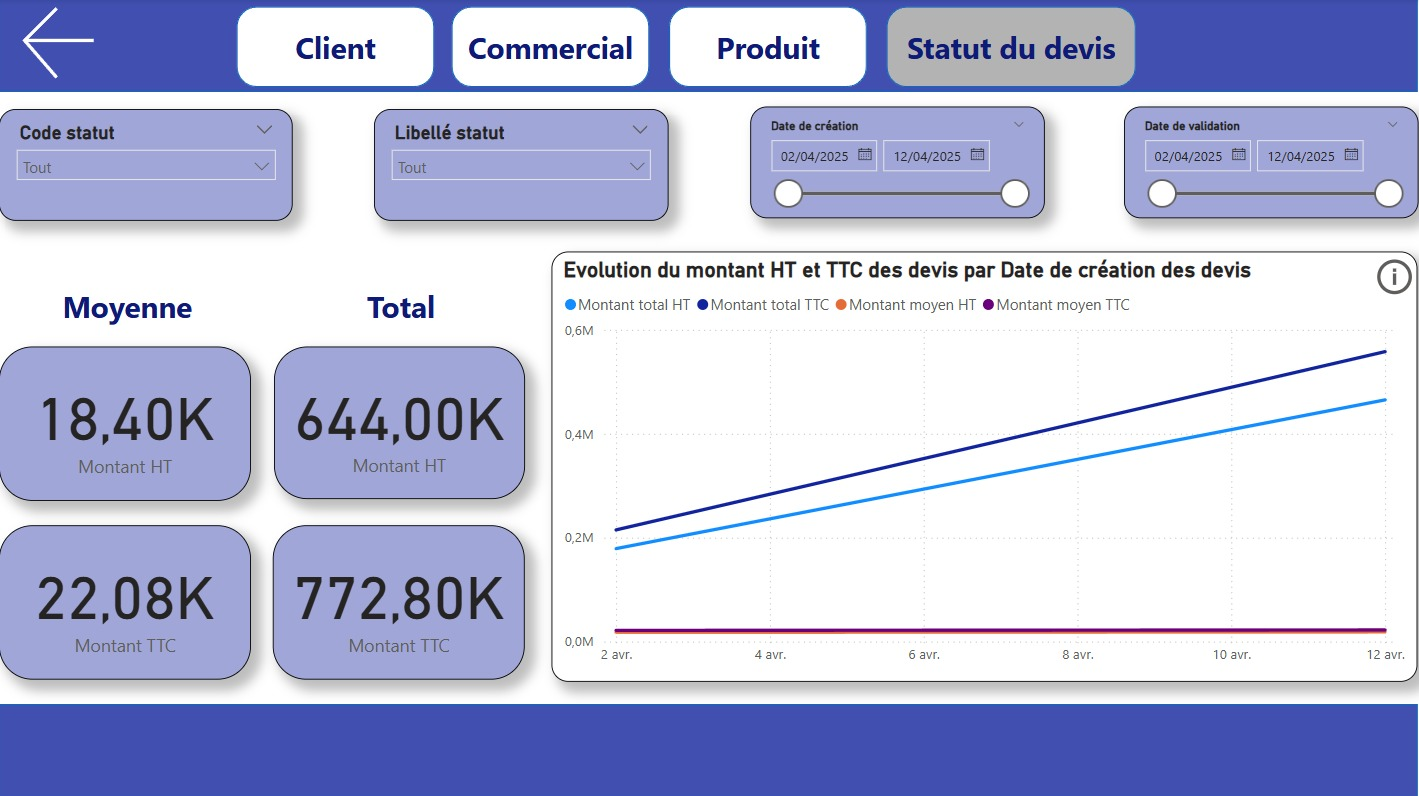

Layout of this report page (visuals, bound fields, positions):
{"tool":"powerbi","page":{"name":"Statut du devis","canvas":[1280,720],"ordinal":4},"visuals":[{"type":"shape","box":[0,0,1279.3,83.8],"z":0},{"type":"card","fields":{"Values":["Sum(dsid_dwh f_devis.montant_ht)"]},"box":[247.6,313.7,226.8,138],"z":1000},{"type":"card","fields":{"Values":["Sum(dsid_dwh f_devis.montant_ttc)"]},"box":[247,474.2,227.2,139],"z":2000},{"type":"card","fields":{"Values":["Avg(dsid_dwh f_devis.montant_ht)"]},"box":[0,313.2,227.2,139],"z":3000},{"type":"card","fields":{"Values":["Avg(dsid_dwh f_devis.montant_ttc)"]},"box":[0,474.2,227.2,139],"z":4000},{"type":"shape","box":[0,635.2,1279.3,83.8],"z":5000},{"type":"lineChart","title":"Evolution du montant HT et TTC des devis par Date de création des devis","fields":{"Y":["Sum(dsid_dwh f_devis.montant_ht)","Sum(dsid_dwh f_devis.montant_ttc)","Avg(dsid_dwh f_devis.montant_ht)","Avg(dsid_dwh f_devis.montant_ttc)"],"Category":["dsid_dwh f_devis.date_creation"]},"box":[498.5,227.2,780.8,388.2],"z":6000},{"type":"shape","box":[213.9,6.6,178.7,72.8],"z":7000},{"type":"shape","box":[800.7,6.6,225,72.8],"z":8000},{"type":"shape","box":[408,6.6,178.7,72.8],"z":9000},{"type":"shape","box":[604.3,6.6,178.7,72.8],"z":10000},{"type":"shape","box":[41.9,240.4,147.8,72.8],"z":11000},{"type":"shape","box":[288.9,240.4,147.8,72.8],"z":12000},{"type":"actionButton","box":[15.1,0,79.4,79.4],"z":13000},{"type":"actionButton","box":[1237.8,226.8,41.6,47.2],"z":14000},{"type":"slicer","fields":{"Values":["dsid_dwh dim_statut_devis.libelle_statut"]},"box":[338.1,99,265.6,100.6],"z":22000},{"type":"slicer","fields":{"Values":["dsid_dwh dim_statut_devis.code_statut"]},"box":[0,99,265,100.6],"z":23000},{"type":"slicer","fields":{"Values":["dsid_dwh f_devis.date_validation"]},"box":[1014.4,97.3,265.6,100.6],"z":24000},{"type":"slicer","fields":{"Values":["dsid_dwh f_devis.date_creation"]},"box":[677.9,97.3,265.6,100.6],"z":25000}]}

Visuals, with their boxes in screenshot pixels (x1, y1, x2, y2), scaled from the page's 1280x720 canvas onto the 1419x796 screenshot:
shape: x1=0, y1=0, x2=1418, y2=93
card - Sum(dsid_dwh f_devis.montant_ht): x1=274, y1=347, x2=526, y2=499
card - Sum(dsid_dwh f_devis.montant_ttc): x1=274, y1=524, x2=526, y2=678
card - Avg(dsid_dwh f_devis.montant_ht): x1=0, y1=346, x2=252, y2=500
card - Avg(dsid_dwh f_devis.montant_ttc): x1=0, y1=524, x2=252, y2=678
shape: x1=0, y1=702, x2=1418, y2=795
"Evolution du montant HT et TTC des devis par Date de création des devis" lineChart: x1=553, y1=251, x2=1418, y2=680
shape: x1=237, y1=7, x2=435, y2=88
shape: x1=888, y1=7, x2=1137, y2=88
shape: x1=452, y1=7, x2=650, y2=88
shape: x1=670, y1=7, x2=868, y2=88
shape: x1=46, y1=266, x2=210, y2=346
shape: x1=320, y1=266, x2=484, y2=346
actionButton: x1=17, y1=0, x2=105, y2=88
actionButton: x1=1372, y1=251, x2=1418, y2=303
slicer - dsid_dwh dim_statut_devis.libelle_statut: x1=375, y1=109, x2=669, y2=221
slicer - dsid_dwh dim_statut_devis.code_statut: x1=0, y1=109, x2=294, y2=221
slicer - dsid_dwh f_devis.date_validation: x1=1125, y1=108, x2=1418, y2=219
slicer - dsid_dwh f_devis.date_creation: x1=752, y1=108, x2=1046, y2=219
